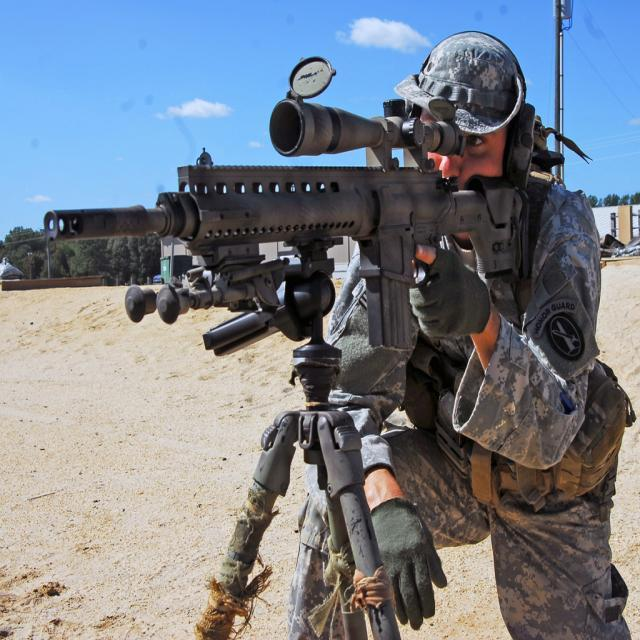weapon: (22, 59, 604, 425)
